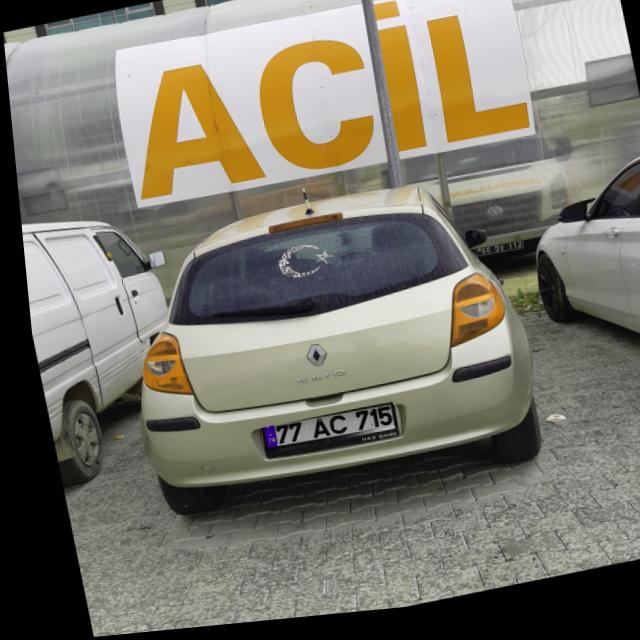license_plate: (250, 408, 389, 459)
